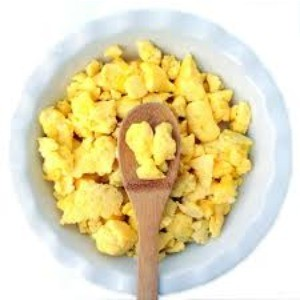egg_brain food: (75, 59, 237, 204)
